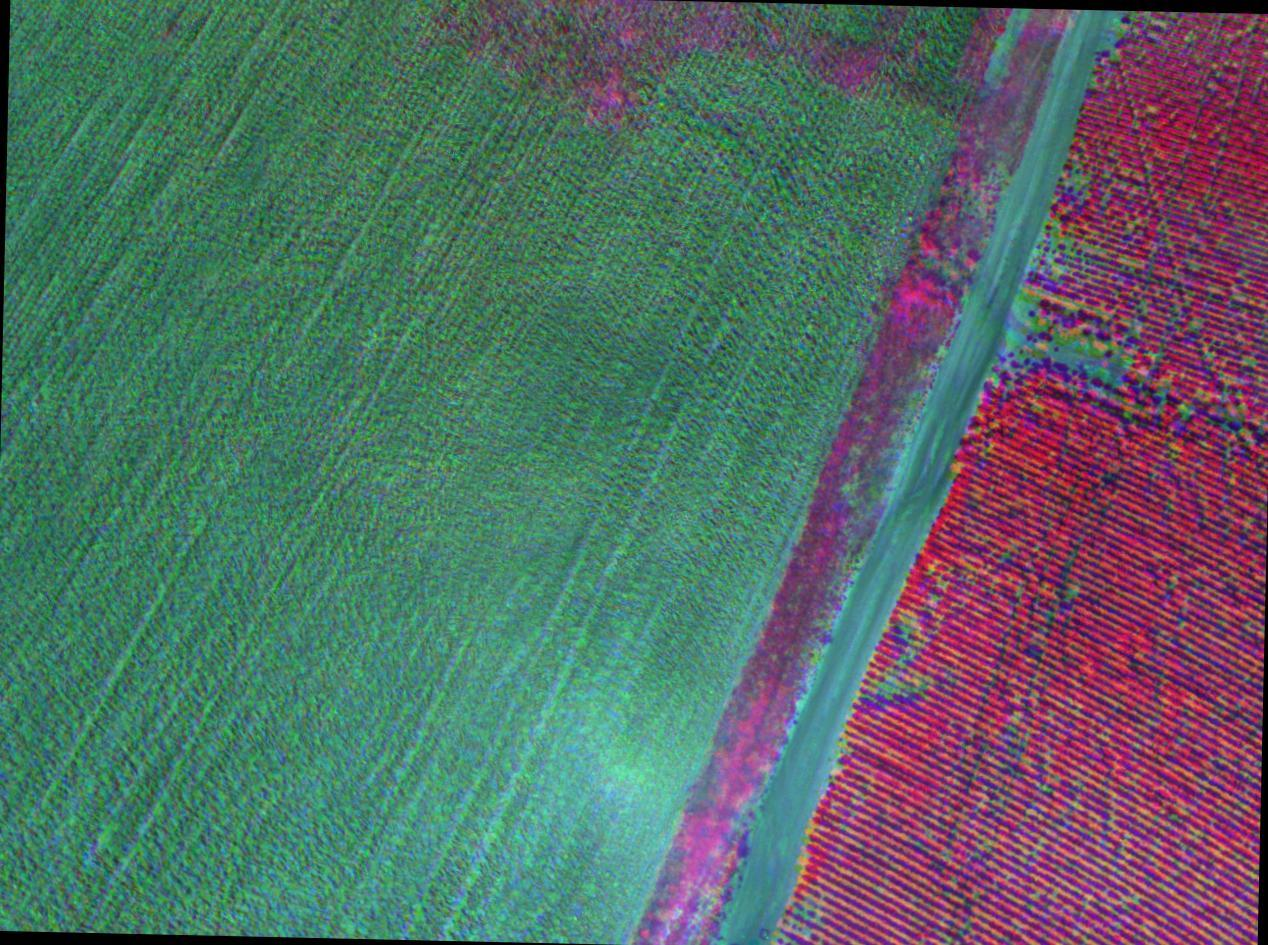dc: (1181, 406, 1185, 411), (1070, 591, 1075, 595), (1064, 352, 1068, 356), (802, 912, 806, 916), (1057, 333, 1060, 337), (930, 567, 933, 571), (1043, 787, 1047, 790), (965, 925, 969, 928), (916, 843, 919, 846), (1115, 359, 1117, 361)
